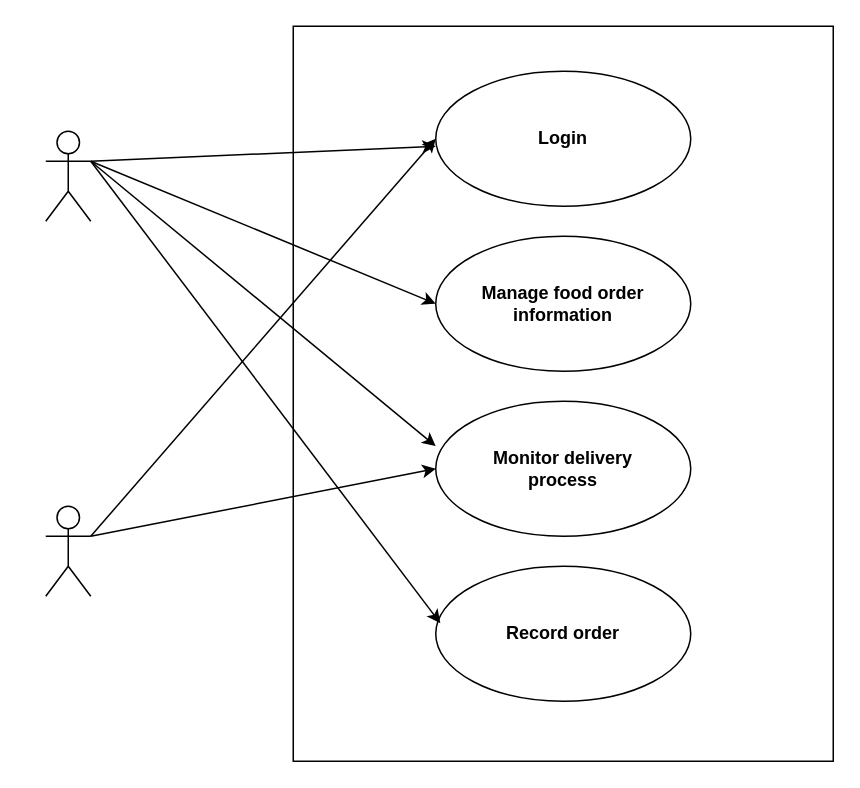
Some shapes in this 860 by 788 pixel diagram are drawn without their labels. Here are the shapes that lost their labels. From the top down, the centre of each, then its label:
At point (67, 175): "Admin".
At point (67, 550): "Cusromer".
